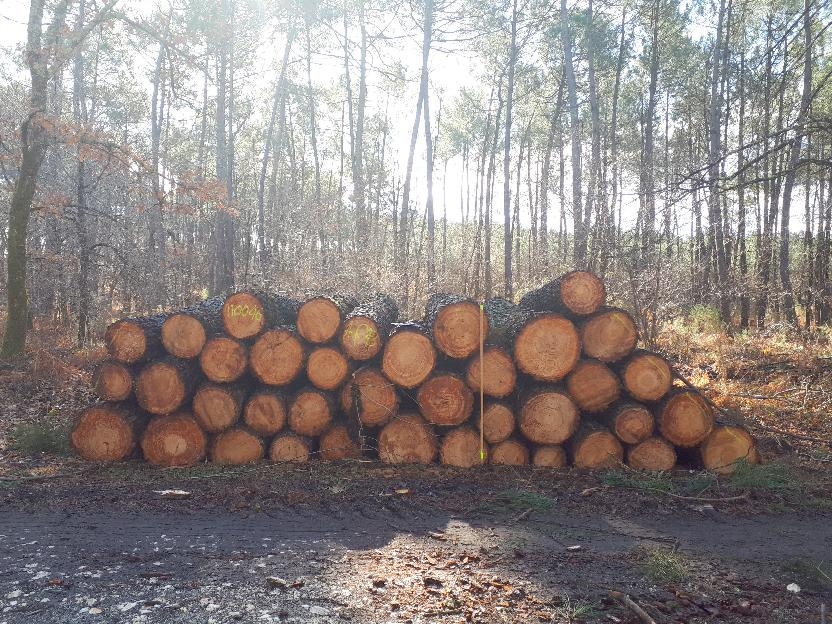etalon: (478, 304, 484, 458)
object: (514, 316, 582, 380), (431, 294, 490, 358), (70, 406, 132, 463), (659, 388, 717, 445), (580, 308, 638, 364), (340, 369, 396, 427), (142, 418, 206, 468), (377, 415, 437, 468), (700, 424, 758, 478), (380, 329, 432, 387), (520, 393, 578, 443), (252, 326, 302, 383), (416, 374, 470, 426), (466, 346, 518, 398), (570, 361, 622, 413), (623, 352, 673, 404), (138, 363, 182, 413), (189, 386, 239, 430), (339, 313, 385, 359), (203, 337, 249, 383), (222, 291, 266, 339), (100, 318, 148, 362), (212, 431, 264, 471), (297, 297, 341, 343), (289, 392, 333, 438), (440, 426, 488, 468), (560, 270, 604, 314), (318, 421, 362, 465), (244, 390, 286, 436), (162, 315, 206, 357), (576, 432, 624, 470), (306, 346, 348, 388), (612, 404, 656, 444), (629, 436, 673, 476), (90, 364, 134, 402), (478, 402, 514, 444), (269, 434, 307, 464), (491, 439, 529, 468), (531, 444, 569, 472)
pile: (66, 264, 764, 482)
